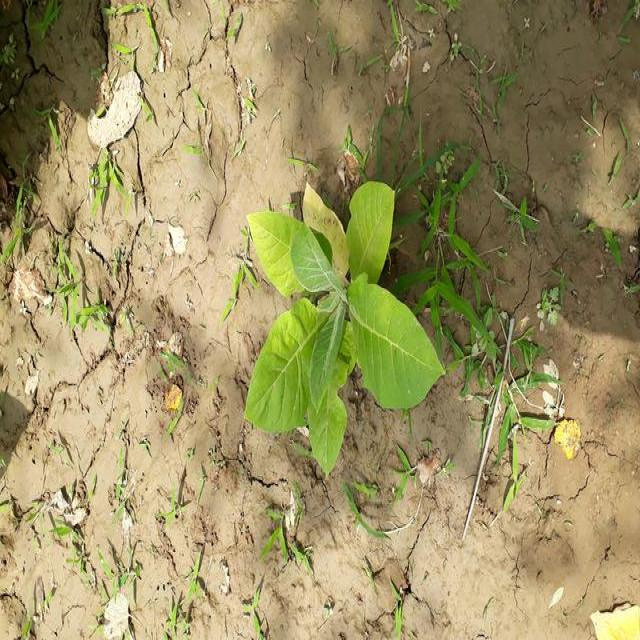crop: (234, 179, 438, 469)
